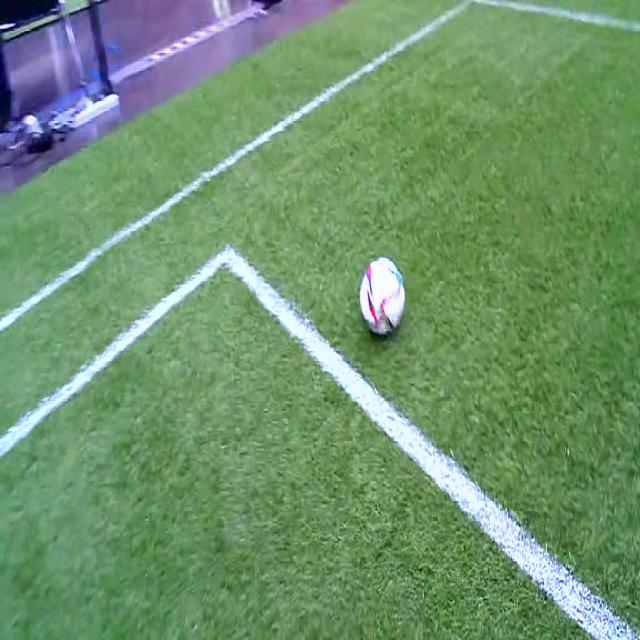ball: (360, 256, 405, 334)
